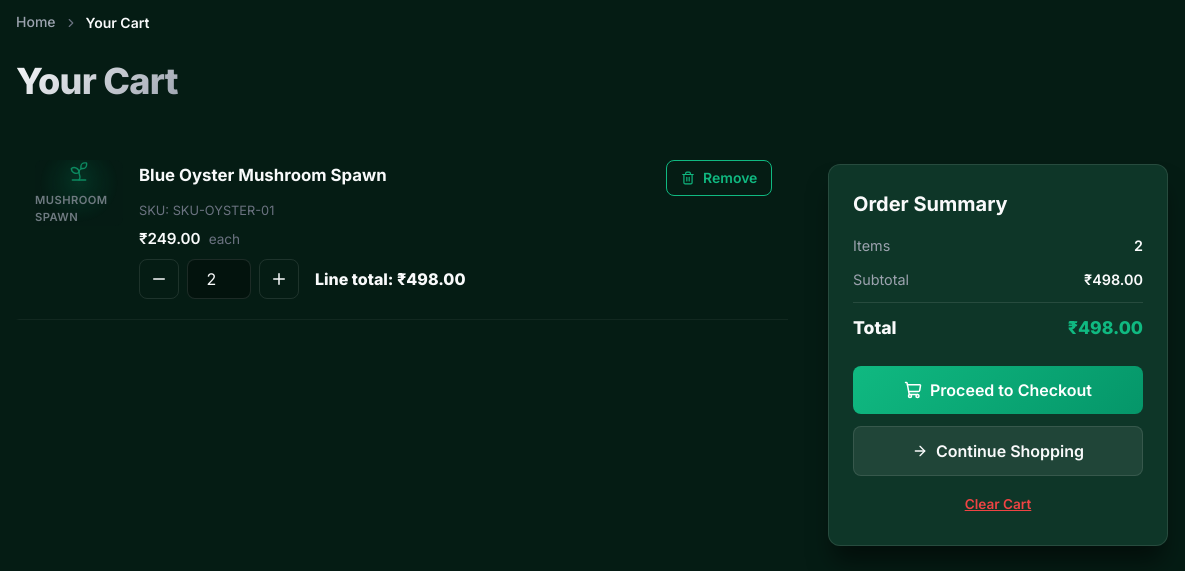
Test case: CartPage (FD-11) › updates quantity through the backend and reflects the server-confirmed cart
Expected: the element with test id "cart-item" is shown, [16,140,788,320]
Click the button named "Increase quantity for Blue Oyster Mushroom Spawn": [279, 279] box [259,259,299,299]
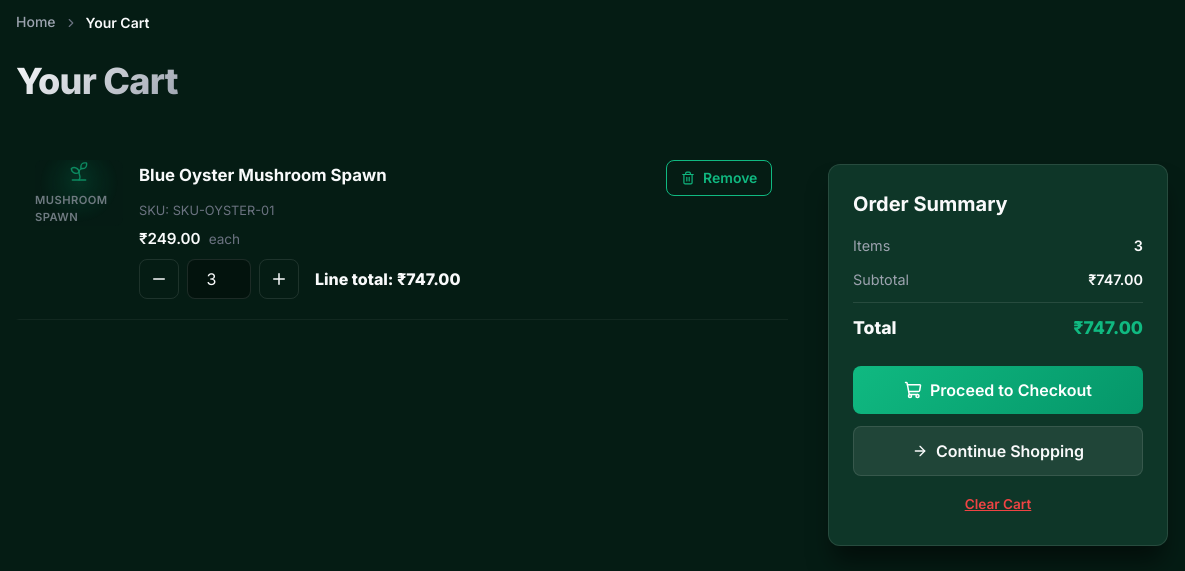
Expected: the text "Line total: ₹747.00" is shown, [315,267,460,291]
Expected: the text with test id "cart-summary-total" reads "₹747.00", [1073,317,1143,338]
